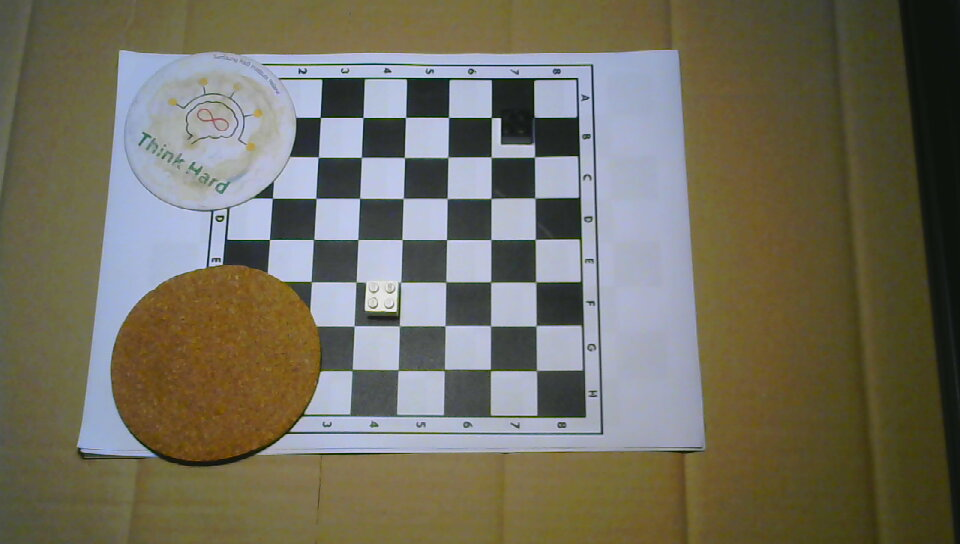bp: (499, 109, 534, 147)
wp: (363, 278, 403, 319)
